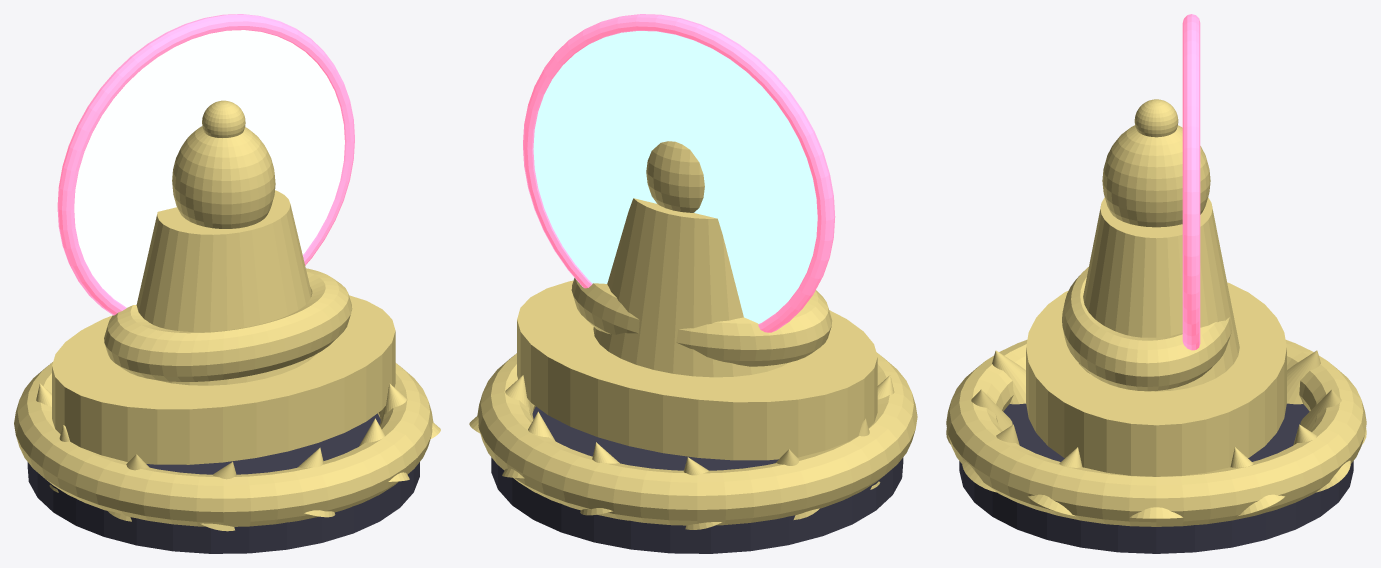
The model's file is manifested_buddha_test.glb.
3 views of the same model, side by side, from view 1: azimuth 30°, elevation 25°; view 2: azimuth 150°, elevation 25°; view 3: azimuth 270°, elevation 25° (orthographic). The views are drawn at different scales.
Parts seen in each view (by area): view 1: ManifestedArtifactMesh; view 2: ManifestedArtifactMesh; view 3: ManifestedArtifactMesh.
Boxes of the visible parts, x1,y1,x2,y2 form: ManifestedArtifactMesh: (14,14,440,553); ManifestedArtifactMesh: (469,14,917,553); ManifestedArtifactMesh: (946,14,1366,553).
Size of the model in its own units: 0.9792 by 1.11 by 0.96.
